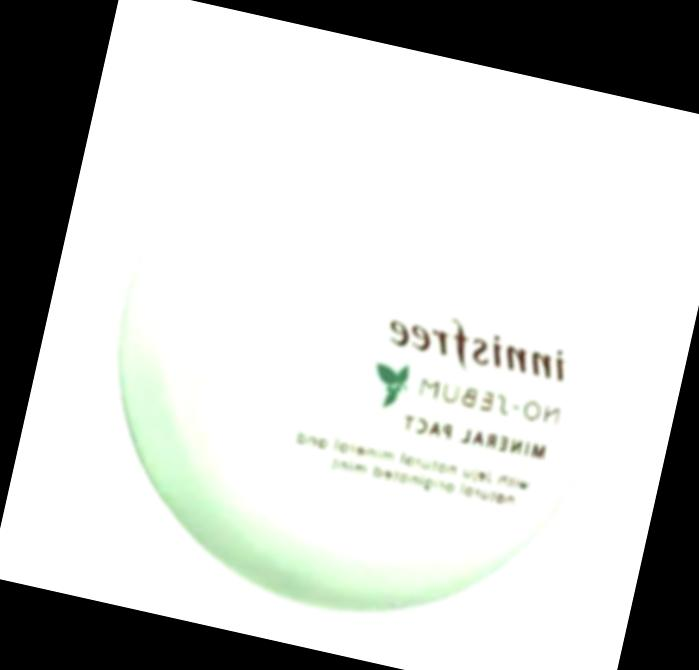cosmetic: (62, 54, 661, 663)
